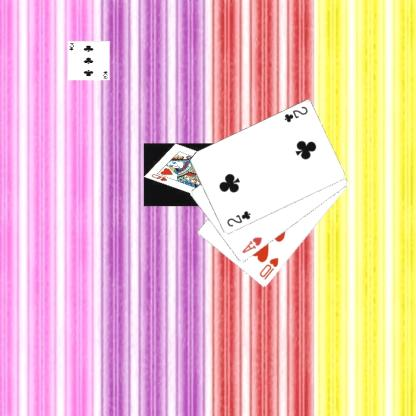10H: (257, 255, 280, 281)
2C: (224, 208, 252, 228), (281, 104, 309, 124)
AH: (239, 234, 263, 255)
